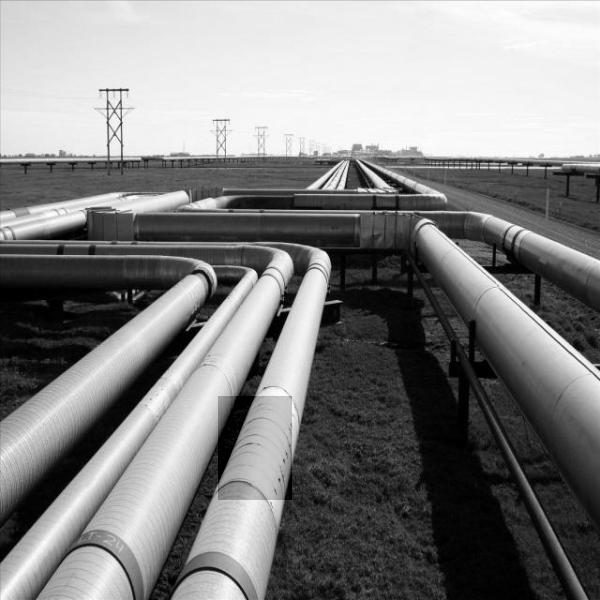no leak: (218, 396, 292, 500)
